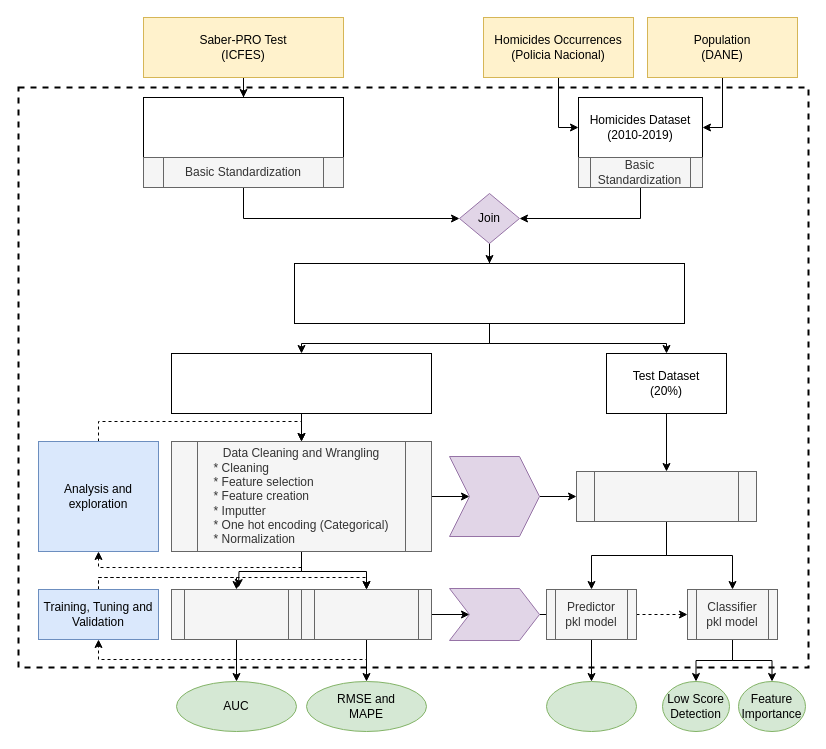
Image size: 826x749. Some labels were removed from this diagram. Each missing label, with the centre of its shape:
Classifier (XGBoost): pixel 236 614
Development Dataset (Train + Validation) (80%): pixel 301 383
Export Models: pixel 494 614
Export Pipeline: pixel 494 496
Final Dataset: pixel 489 293
Pre-process pkl Pipeline: pixel 666 496
Predictor (Linear regression): pixel 366 614
Saber-PRO Test Dataset (2016-1019): pixel 243 127
Score Prediction: pixel 591 706
